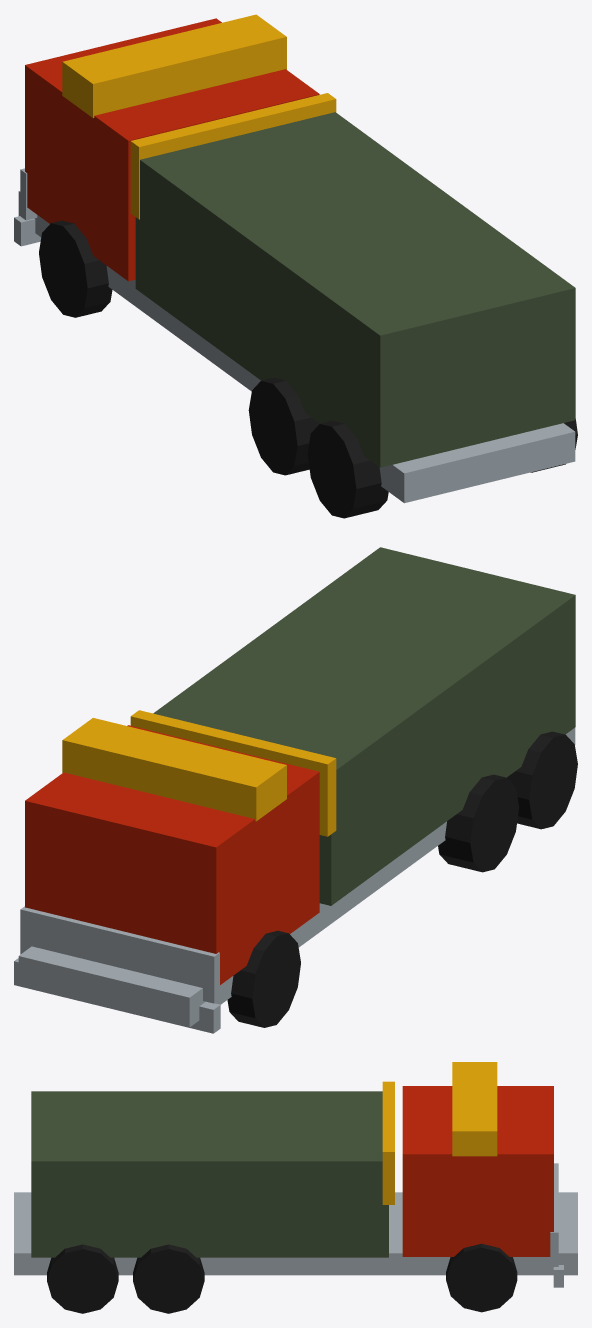
The model's file is goods_truck.fbx.
3 renders of one model, top to bottom at view 1: azimuth 30°, elevation 25°; view 2: azimuth 150°, elevation 25°; view 3: azimuth 270°, elevation 25°, orthographic. The views are drawn at different scales.
Parts seen in each view (by area): view 1: goods_truck; view 2: goods_truck; view 3: goods_truck.
Boxes of the visible parts, box(x1,y1,x2,y2) form: goods_truck: box(14, 14, 577, 518); goods_truck: box(14, 547, 577, 1033); goods_truck: box(14, 1062, 577, 1313).
Bounding box in the file's own units: 2.72 × 2.85 × 8.2.
